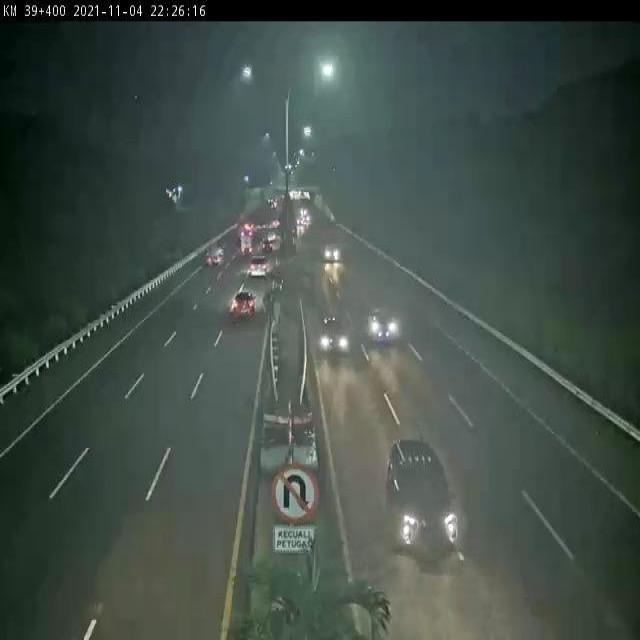car: (381, 424, 469, 571), (366, 309, 404, 351), (325, 327, 358, 360), (229, 292, 257, 319), (322, 242, 344, 266), (252, 259, 266, 281)
